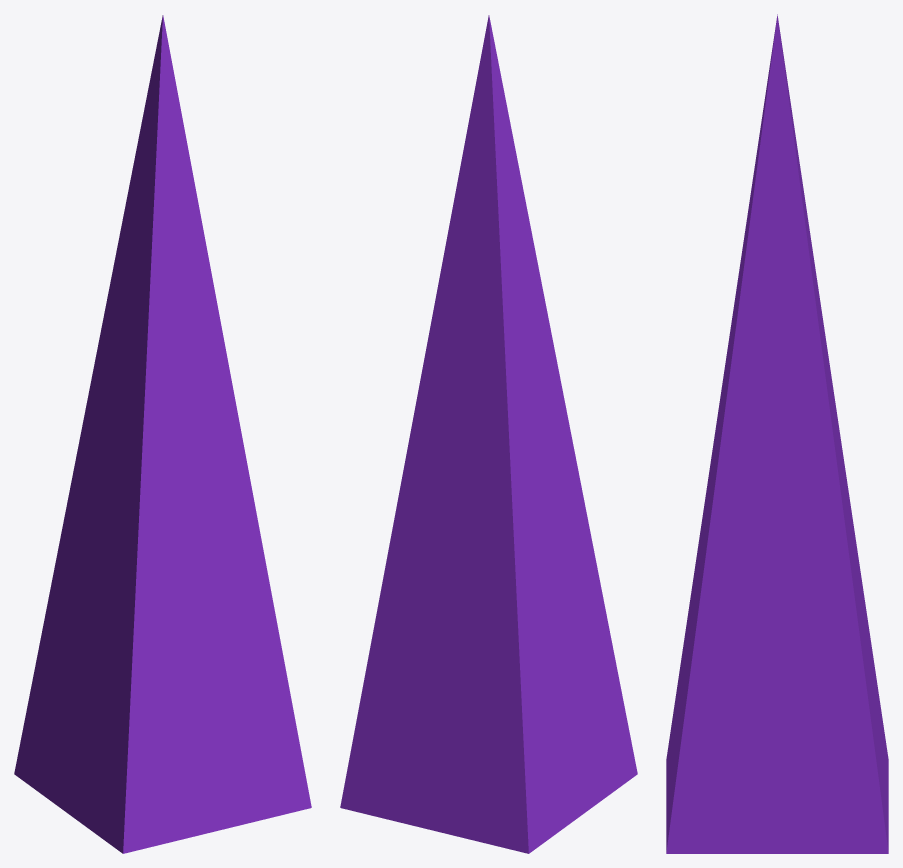
Rendered from spuntone_viola.fbx.
3 views of the same model, side by side, from view 1: azimuth 30°, elevation 25°; view 2: azimuth 150°, elevation 25°; view 3: azimuth 270°, elevation 25° (orthographic). The views are drawn at different scales.
Visible parts, largest first — view 1: Proiettile; view 2: Proiettile; view 3: Proiettile.
Part boxes in pixels (x1,y1,x2,y2): Proiettile: [14, 15, 311, 853]; Proiettile: [340, 15, 637, 853]; Proiettile: [666, 14, 888, 853].
Size of the model in its own units: 9.52 by 37.46 by 9.52.
